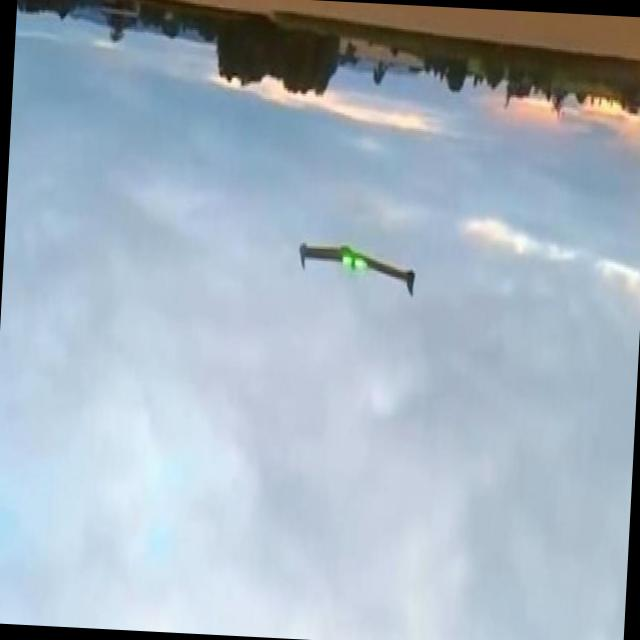UAV: (220, 172, 436, 314)
